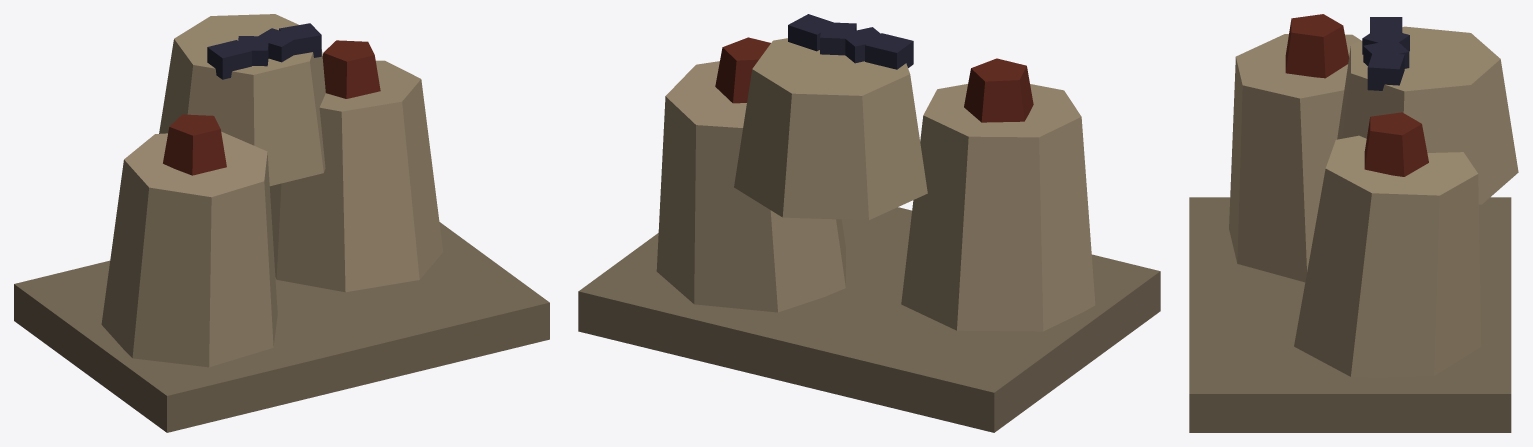
File: charcoal_sacks.glb
3 views of the same model, side by side, from view 1: azimuth 30°, elevation 25°; view 2: azimuth 150°, elevation 25°; view 3: azimuth 270°, elevation 25° (orthographic). The views are drawn at different scales.
Visible parts, largest first — view 1: driftwood_d20, driftwood_d40, coal_d45, ink_l5; view 2: driftwood_d20, driftwood_d40, coal_d45, ink_l5; view 3: driftwood_d20, driftwood_d40, coal_d45, ink_l5.
Part boxes in pixels (<box>): driftwood_d20: <box>101,14,443,367</box>; driftwood_d40: <box>14,222,549,432</box>; coal_d45: <box>163,40,380,175</box>; ink_l5: <box>207,23,321,79</box>; driftwood_d20: <box>656,38,1095,331</box>; driftwood_d40: <box>578,207,1160,432</box>; coal_d45: <box>715,37,1033,122</box>; ink_l5: <box>788,14,913,69</box>; driftwood_d20: <box>1229,26,1518,377</box>; driftwood_d40: <box>1189,197,1511,432</box>; coal_d45: <box>1285,14,1428,176</box>; ink_l5: <box>1362,17,1409,90</box>.
Size of the model in its own units: 1.3 by 0.9 by 0.92.
